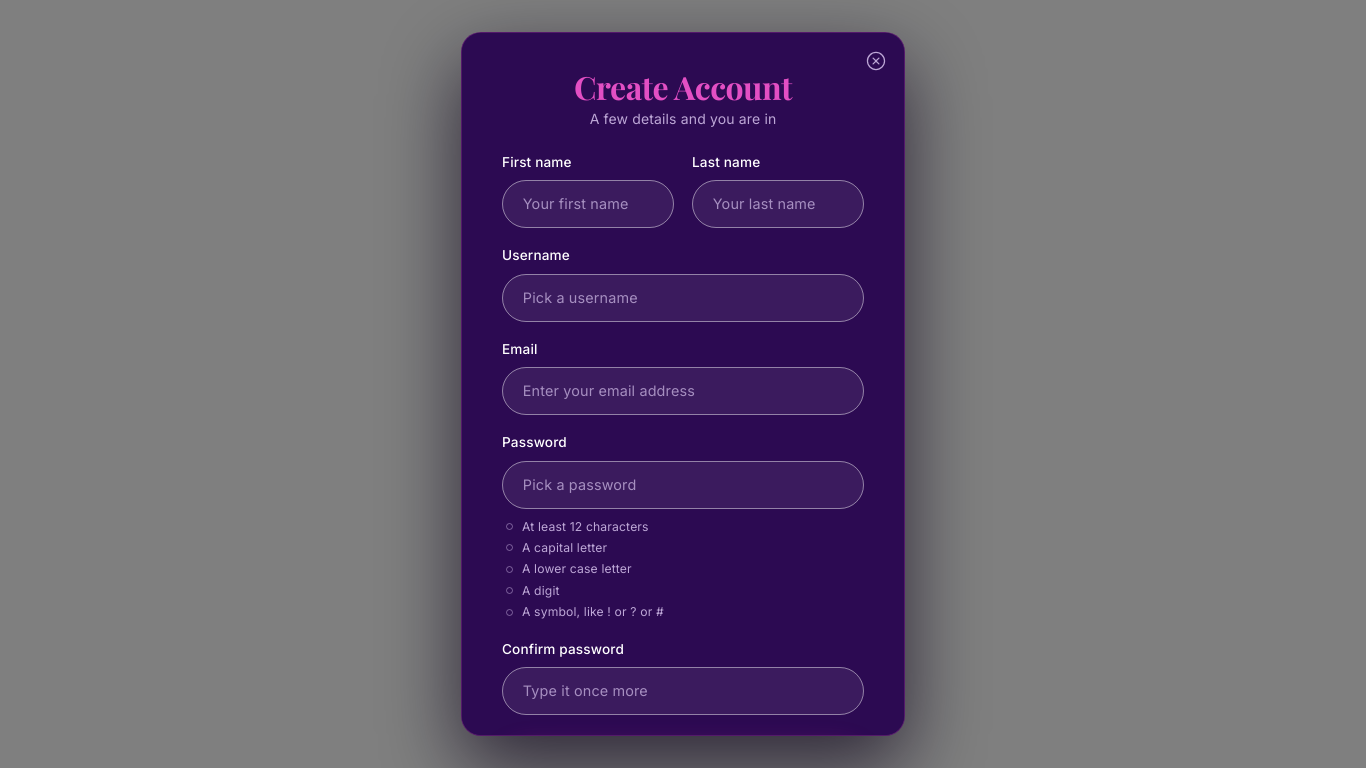
Test: what it refuses to send › refuses two passwords that do not match
Type "Marcus" into the field labelled "First name". click: (588, 204)
box: left=502, top=180, right=674, bottom=228
Type "Wright" into the field labelled "Last name". click: (778, 204)
box: left=692, top=180, right=864, bottom=228
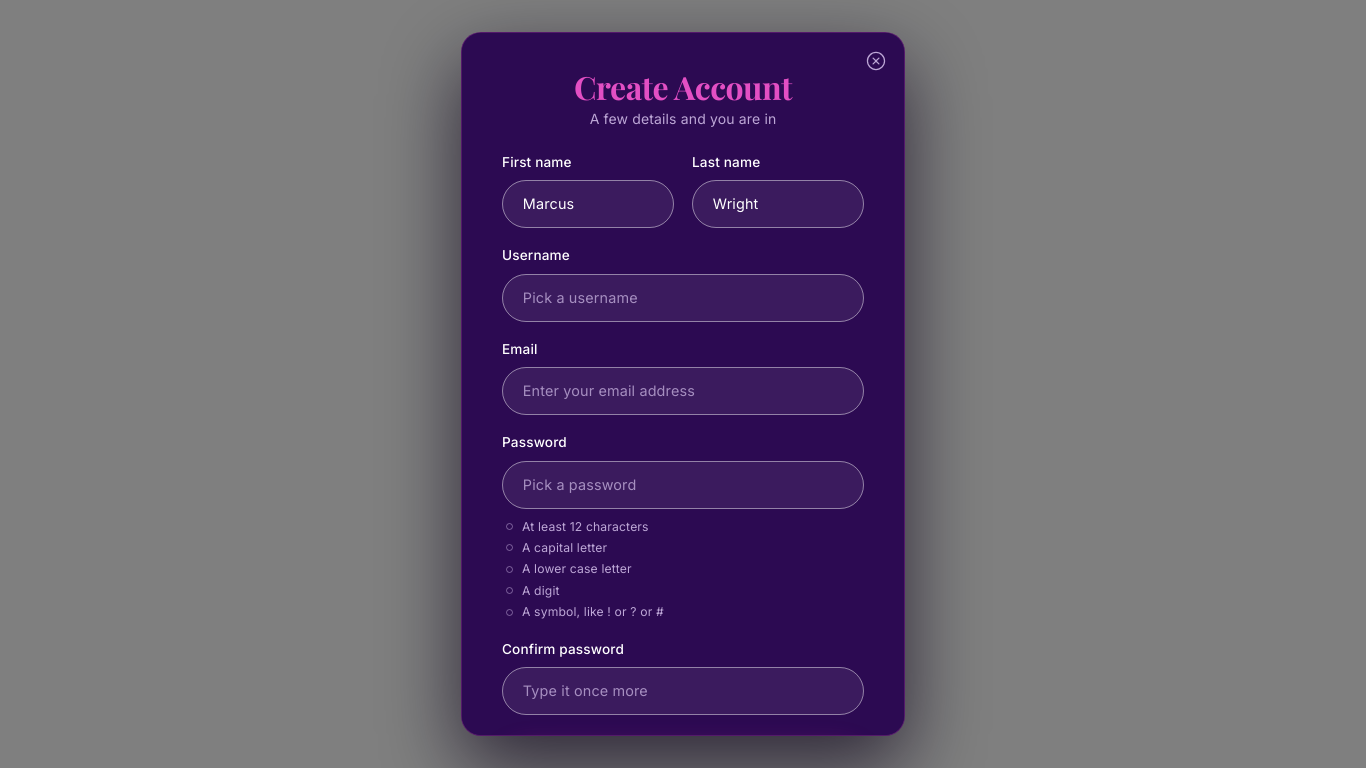
Type "marcus" into the field labelled "Username". click: (683, 298)
box: left=502, top=274, right=864, bottom=322
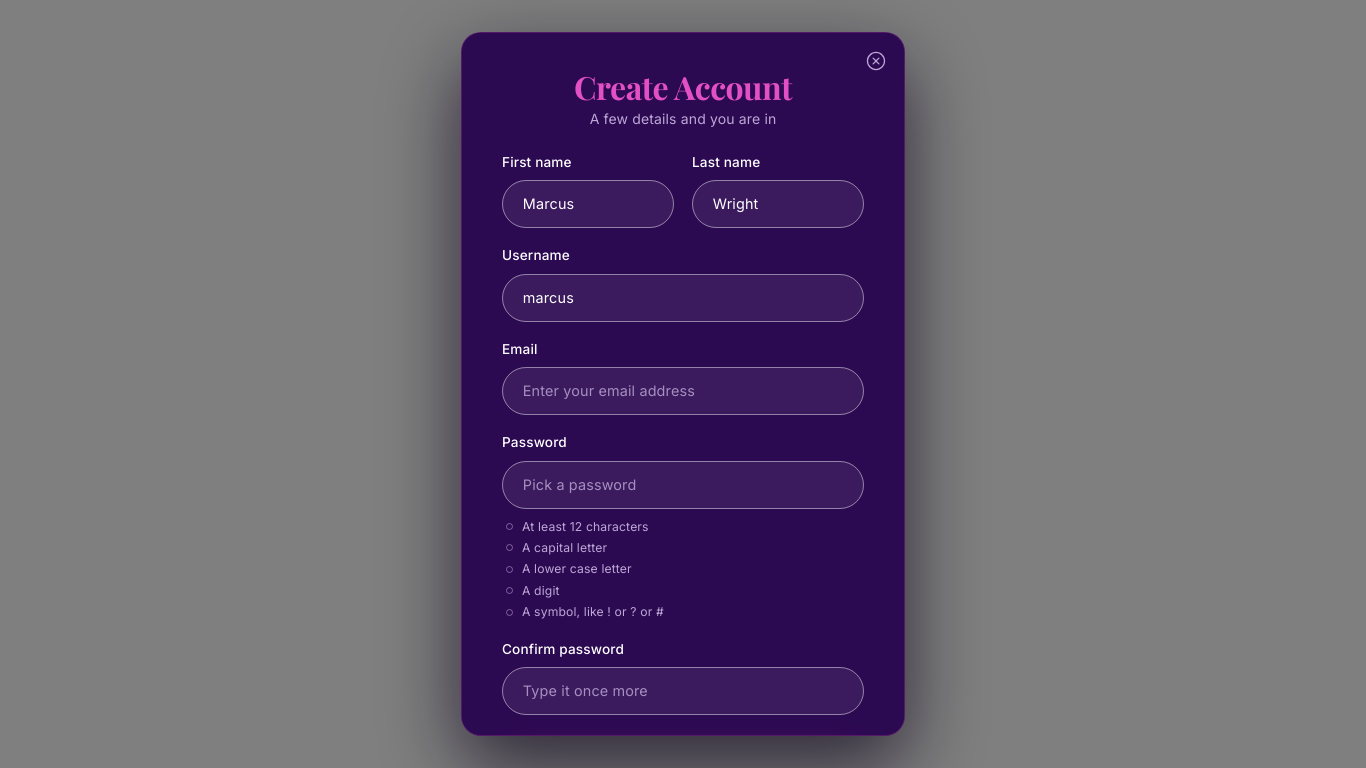
Type "marcus@example.test" into the field labelled "Email". click: (683, 391)
box: left=502, top=367, right=864, bottom=415
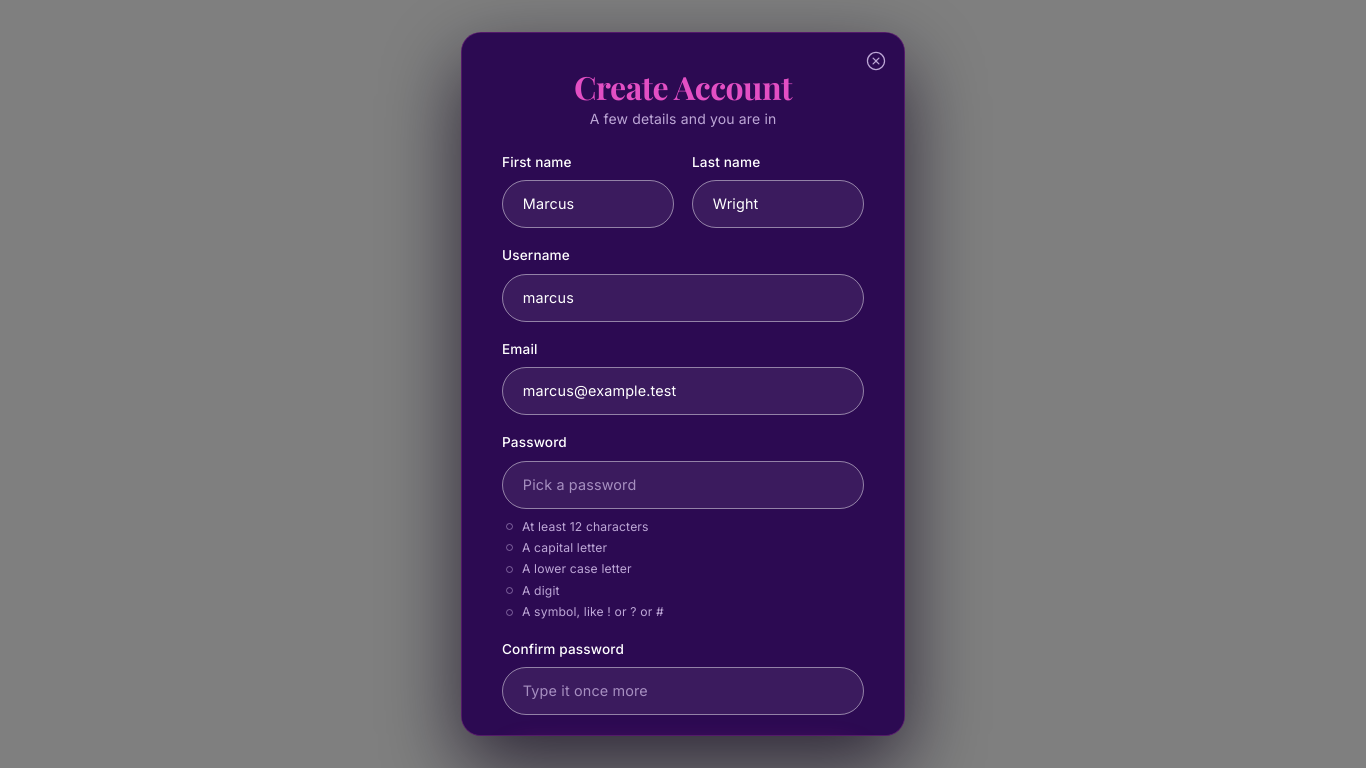
Type "Trombone-42-Fig" into the password field labelled "Password". click: (683, 485)
box: left=502, top=461, right=864, bottom=509
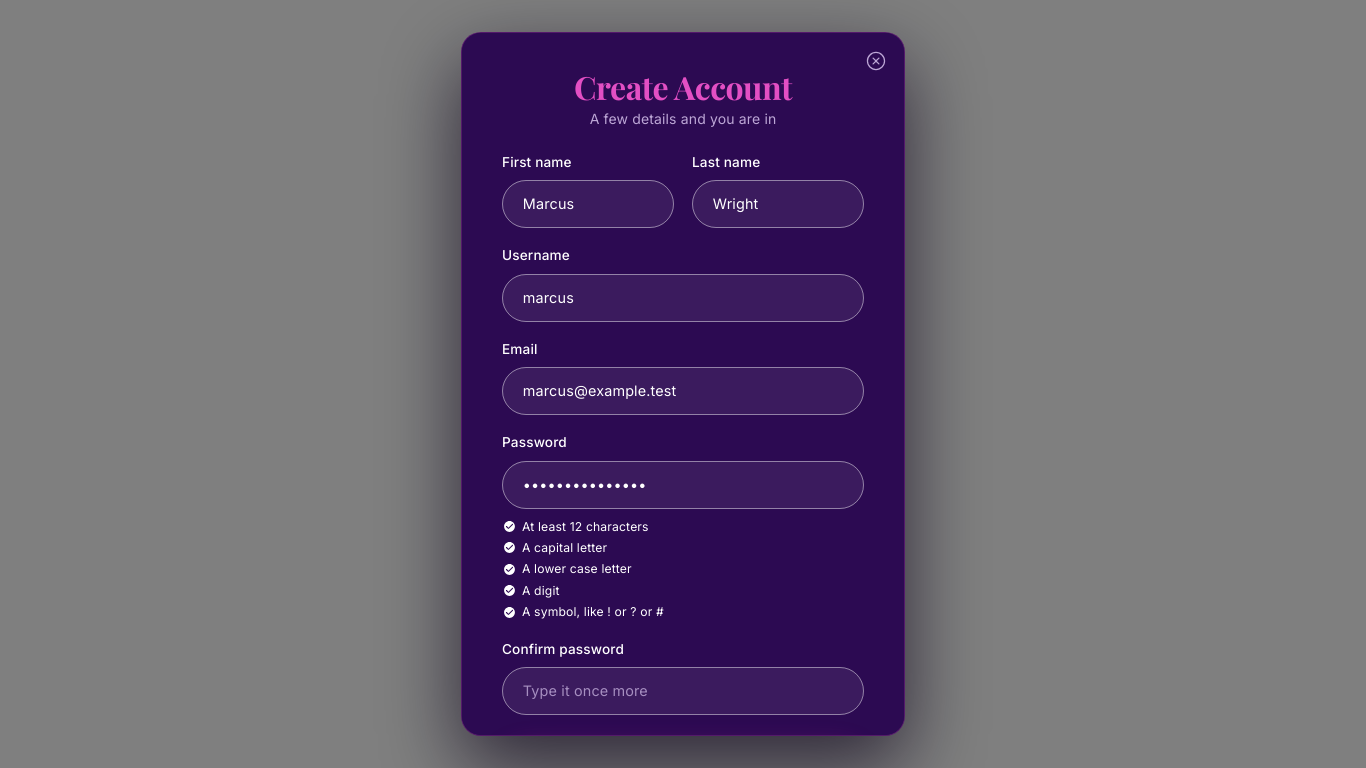
Type "something-else-entirely" into the password field labelled "Confirm password". click: (683, 691)
box: left=502, top=667, right=864, bottom=715
(page scrolled)
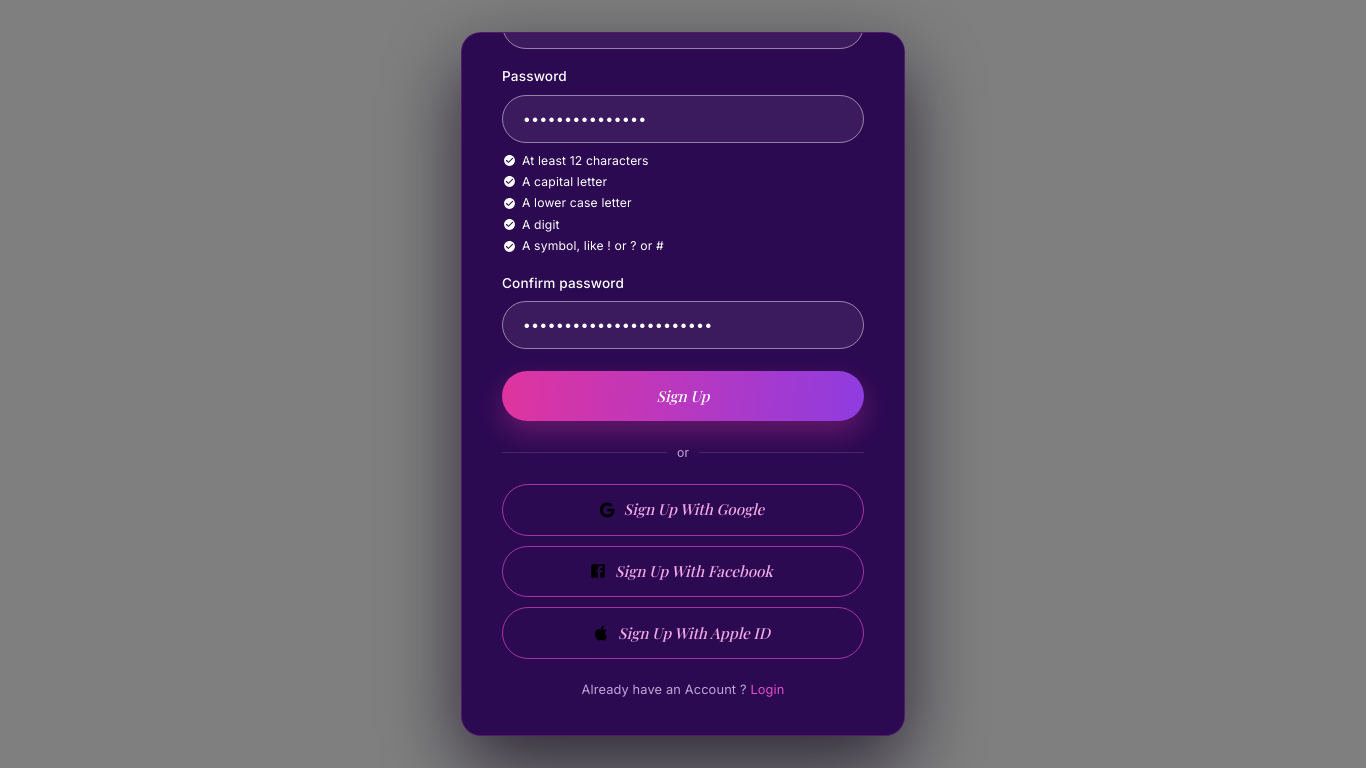
Click the button "Sign Up". click: (683, 396)
box: left=502, top=371, right=864, bottom=421
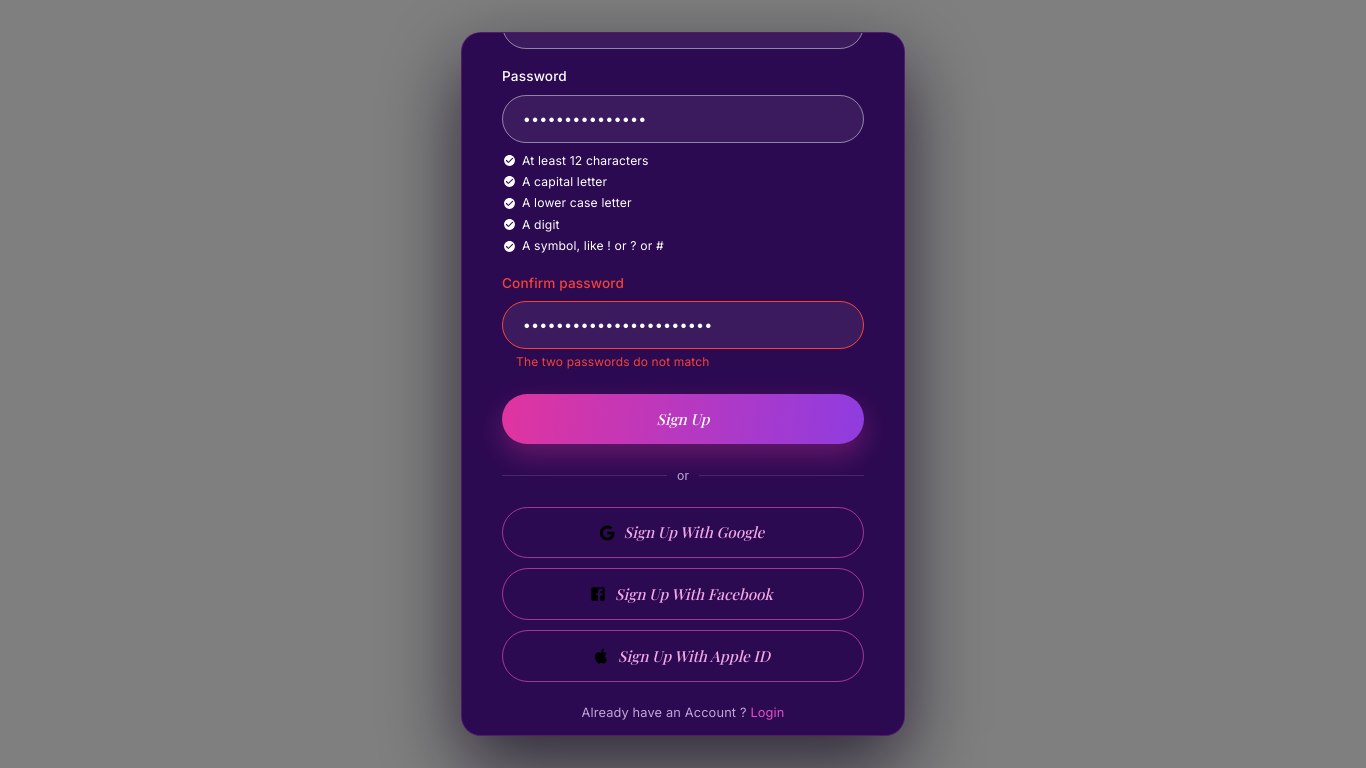
Expected: the text "The two passwords do not match" is shown, left=516, top=354, right=710, bottom=369
